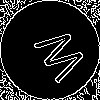W: (25, 25, 89, 89)
